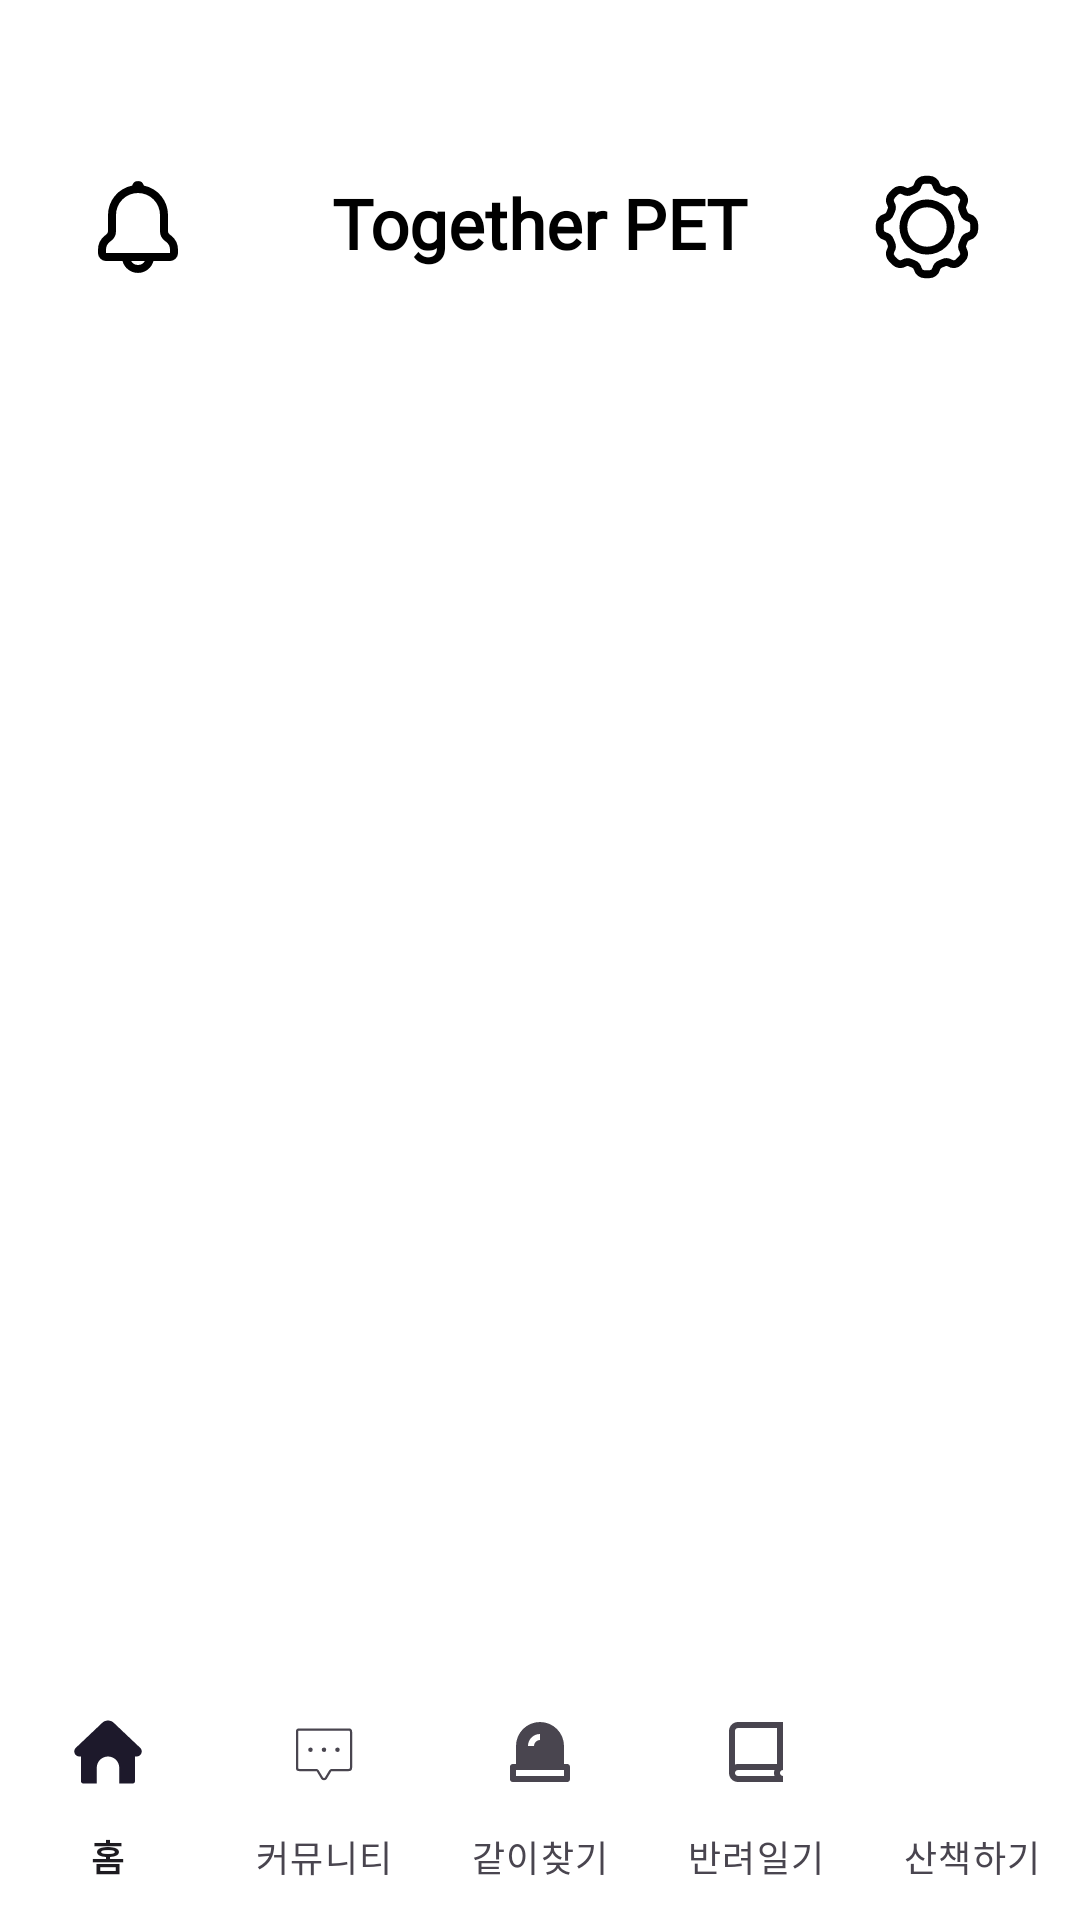

Where icons sit on this 1080×1920 app screen, as region(x1, y1, x2, y2):
alarm: region(98, 181, 178, 273)
setting: region(875, 175, 979, 279)
